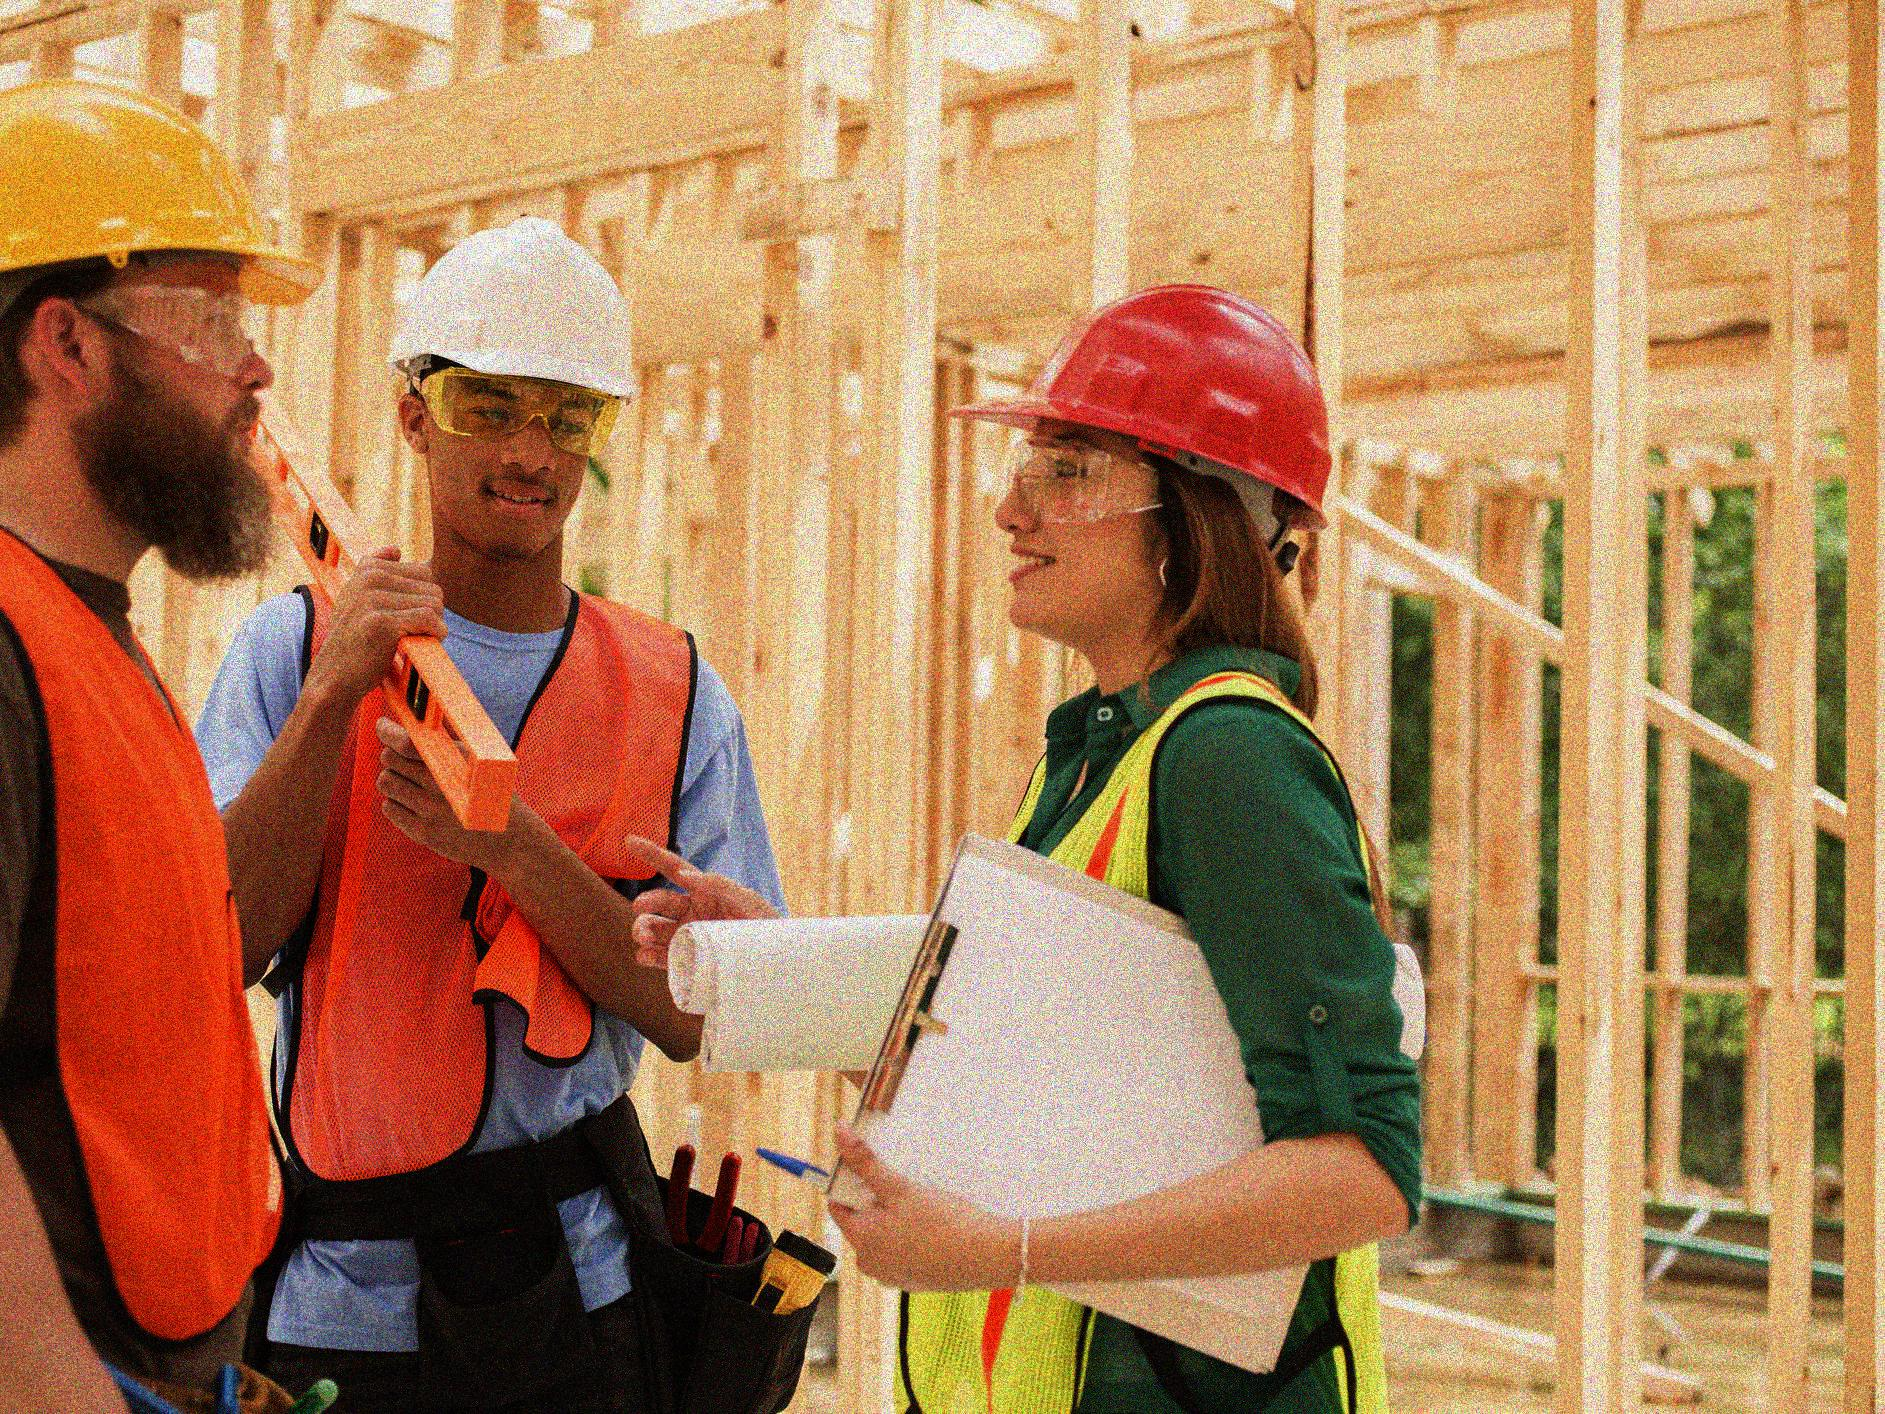helmet: (1, 73, 330, 567), (942, 281, 1341, 640), (380, 217, 640, 569)
